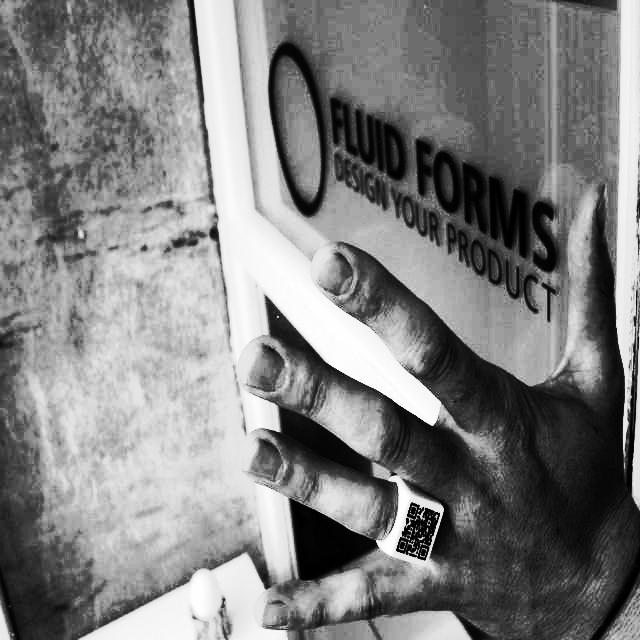qr_code: (396, 502, 440, 561)
